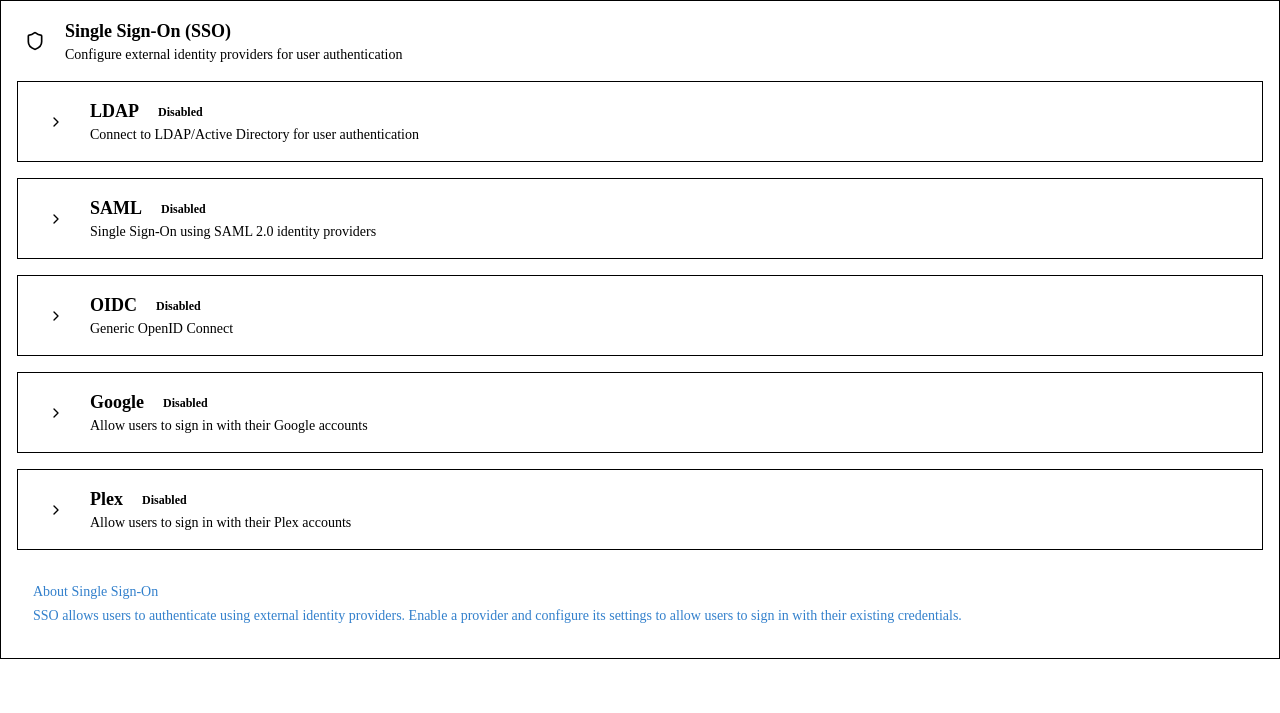
Scenario: a malformed provider save keeps the submitted draft dirty and explicitly retryable
The width and height of the screenshot is (1280, 713).
Click the button named "Configure Google".
click(56, 412)  # box [34,390,78,434]
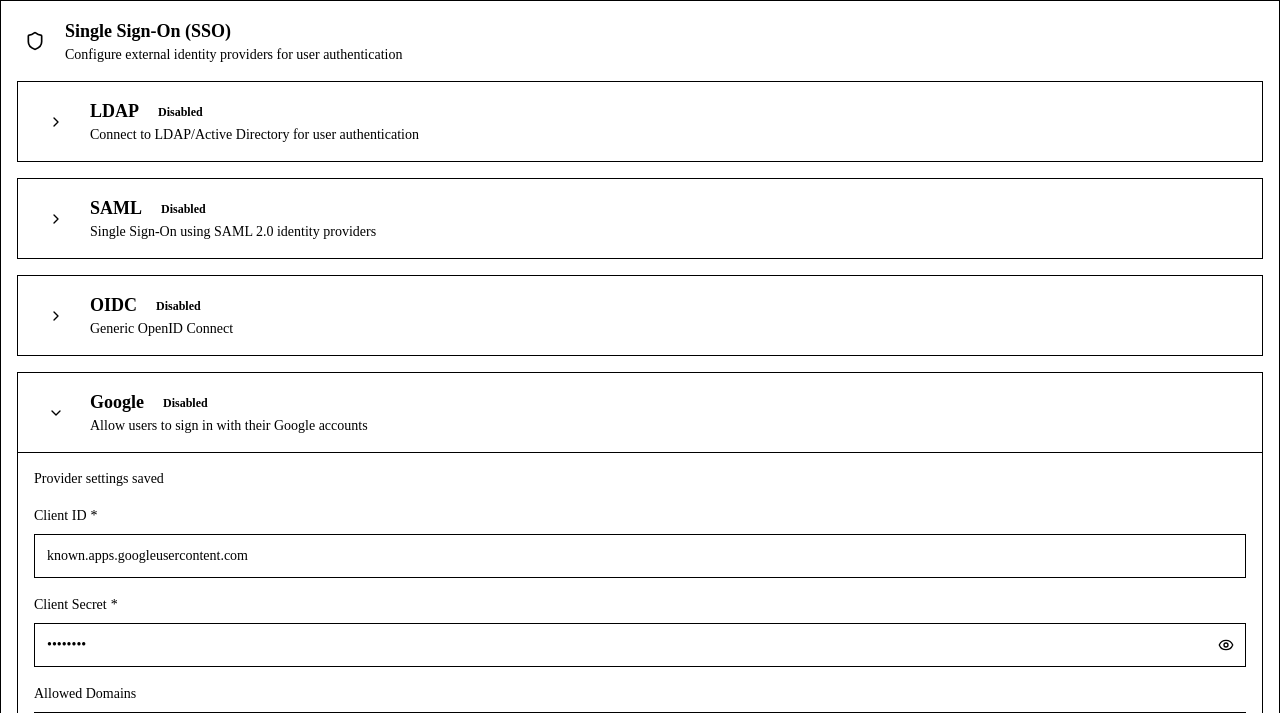
Replace the text in the field labelled "Client ID" with "draft.apps.googleusercontent.com" at (640,556), box [34,534,1246,578]
(page scrolled)
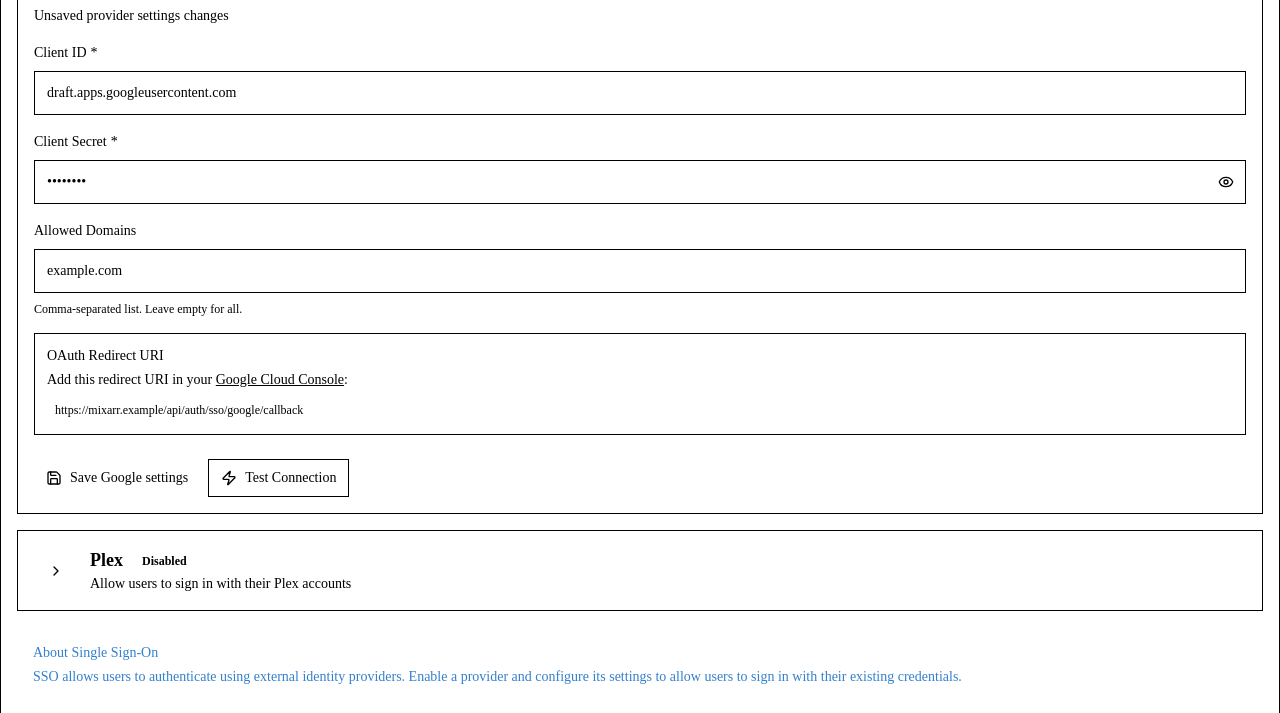
Click the button "Save Google settings".
click(117, 478)  # box [34,459,200,497]
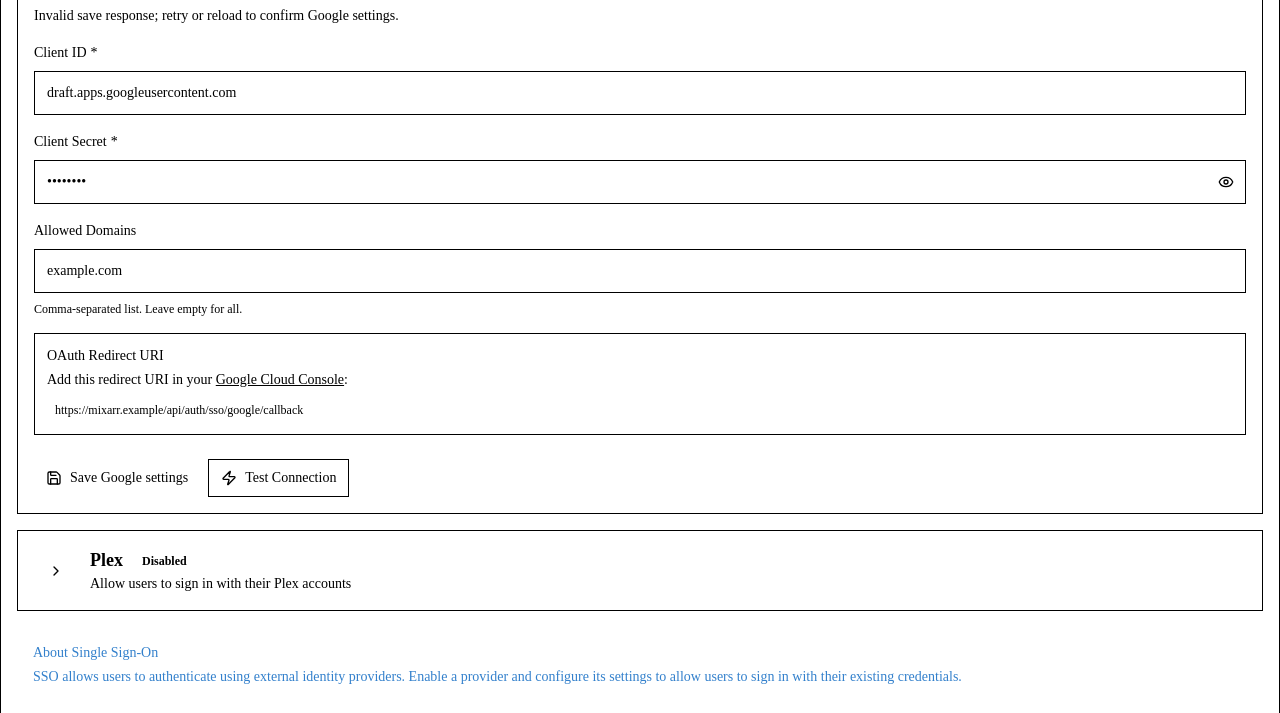
Result: the button "Save Google settings" is enabled at [34,459,200,497]
Result: the message reads "Invalid save response; retry or reload to confirm Google settings." at [34,8,399,23]
